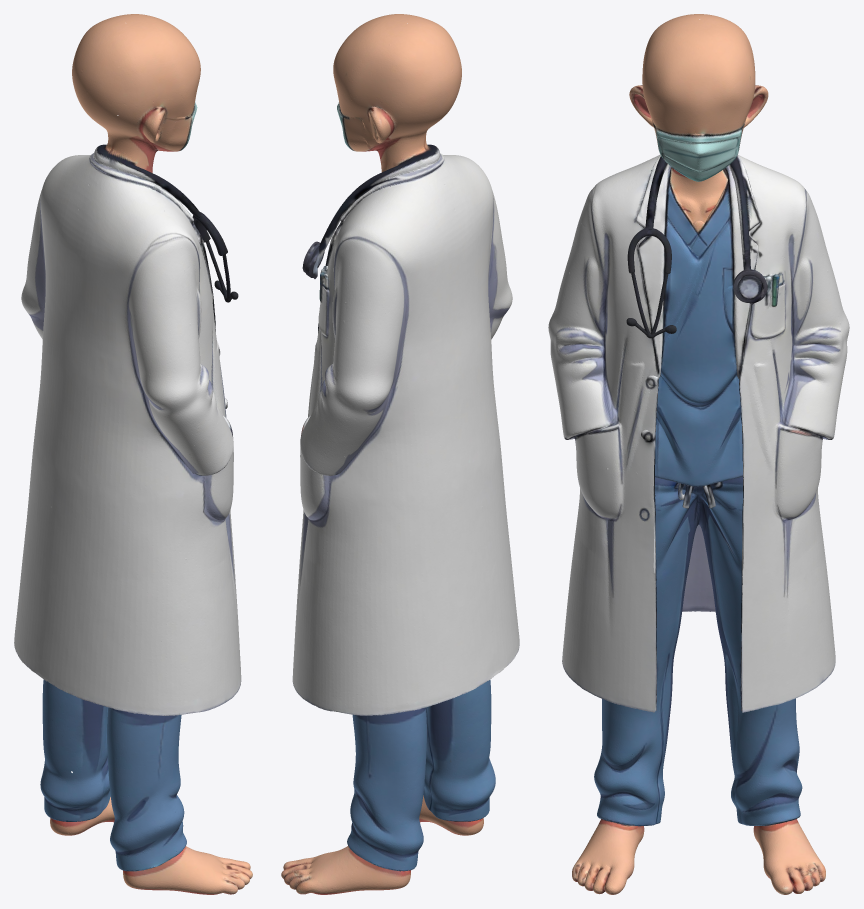
File: doctor+3d+model.glb
3 views of the same model, side by side, from view 1: azimuth 30°, elevation 25°; view 2: azimuth 150°, elevation 25°; view 3: azimuth 270°, elevation 25° (orthographic).
Parts seen in each view (by area): view 1: tripo_node_48191b03-93f0-44b3-8827-dc60c2066f0b; view 2: tripo_node_48191b03-93f0-44b3-8827-dc60c2066f0b; view 3: tripo_node_48191b03-93f0-44b3-8827-dc60c2066f0b.
Boxes of the visible parts, bbox=[...] form: tripo_node_48191b03-93f0-44b3-8827-dc60c2066f0b: bbox=[14, 14, 252, 894]; tripo_node_48191b03-93f0-44b3-8827-dc60c2066f0b: bbox=[281, 14, 519, 894]; tripo_node_48191b03-93f0-44b3-8827-dc60c2066f0b: bbox=[548, 14, 849, 894].
Bounding box in the file's own units: 0.2225 × 1 × 0.3248.
Materials: 1 (1 with a texture image).
